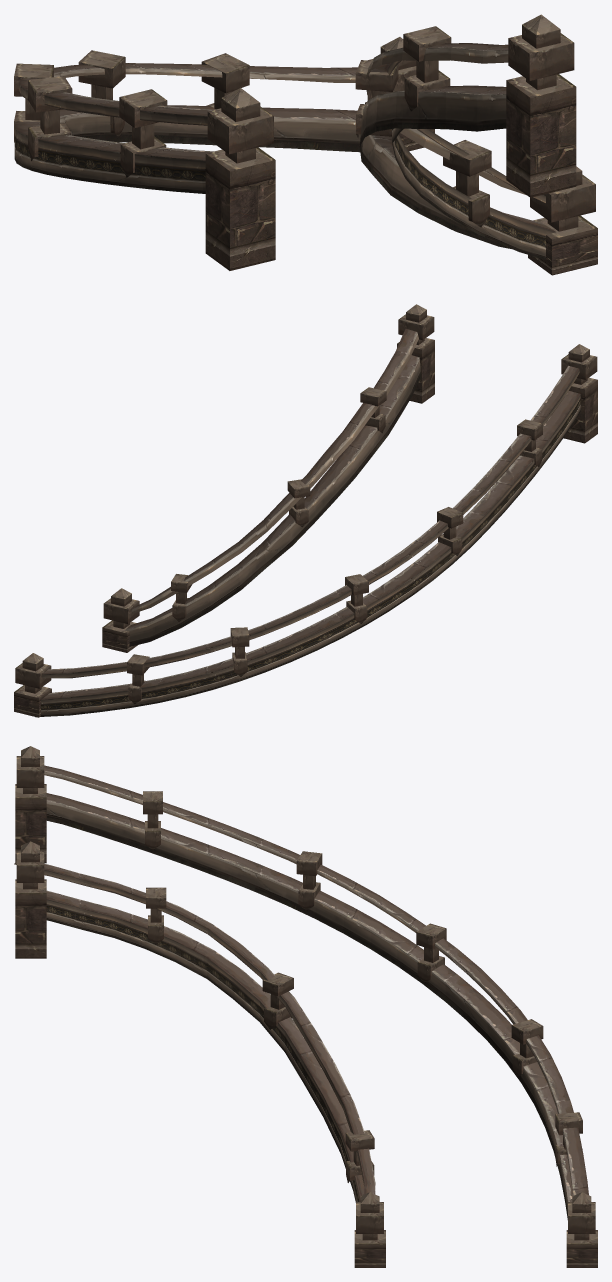
File: stair_R_SIDE.FBX
The picture shows the model from 3 angles, top to bottom: view 1: azimuth 30°, elevation 25°; view 2: azimuth 150°, elevation 25°; view 3: azimuth 270°, elevation 25°; orthographic projection. The views are drawn at different scales.
Visible parts, largest first — view 1: stair_R_SIDE; view 2: stair_R_SIDE; view 3: stair_R_SIDE.
Part boxes in pixels (box(x1,y1,x2,y2)): stair_R_SIDE: box(14, 14, 597, 275); stair_R_SIDE: box(14, 304, 597, 717); stair_R_SIDE: box(14, 746, 597, 1267).
Bounding box in the file's own units: 11.06 × 8.58 × 13.68.
